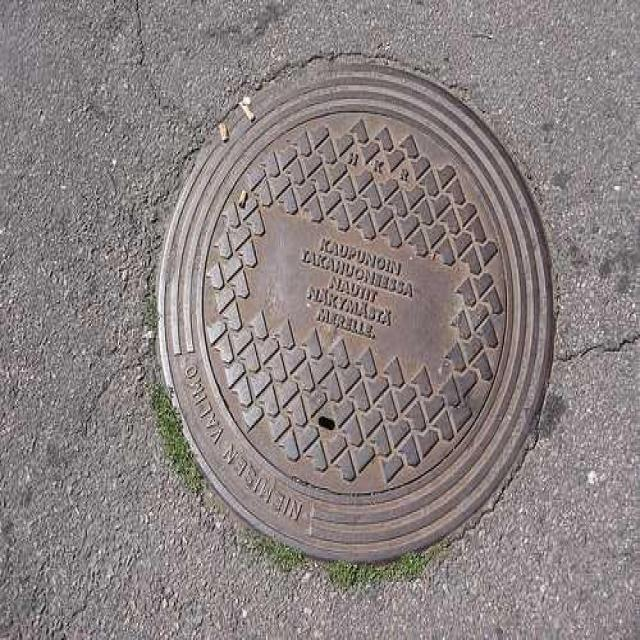manhole: (154, 58, 557, 567)
